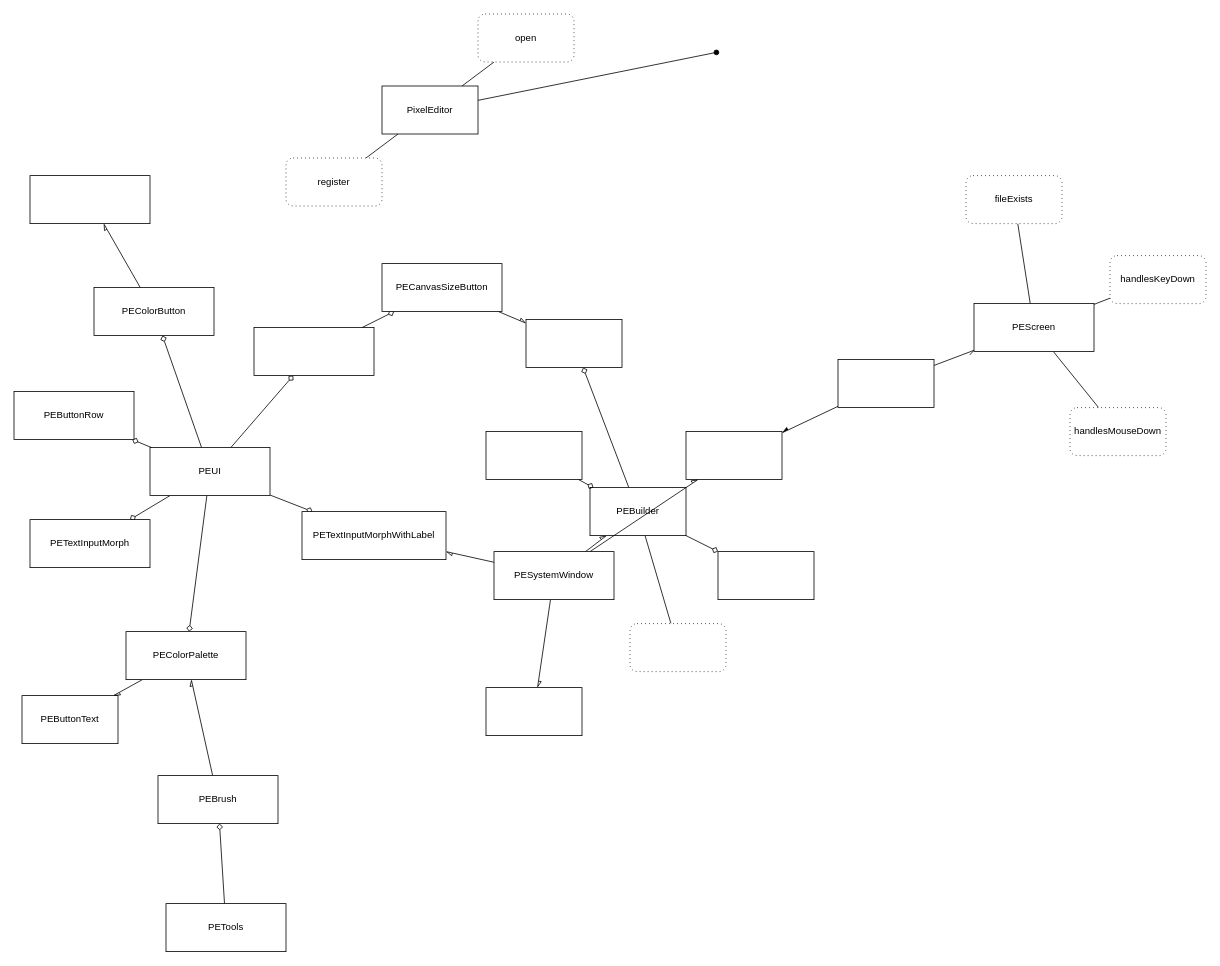
The diagram is 1220 pixels wide and 966 high, and some of its shapes have lost their labels. The centre of each missing label's shape, as x and y in pixels:
"Core" belongs at pixel 533 455.
"PEButton" belongs at pixel 313 351.
"PEButtonBuilder" belongs at pixel 573 343.
"PECanvas" belongs at pixel 533 711.
"PECanvasBuilder" belongs at pixel 765 575.
"PELayer" belongs at pixel 885 383.
"PEPixel" belongs at pixel 733 455.
"PEPluggableTextMorph" belongs at pixel 89 199.
"setUpSavingDirectory" belongs at pixel 677 647.
